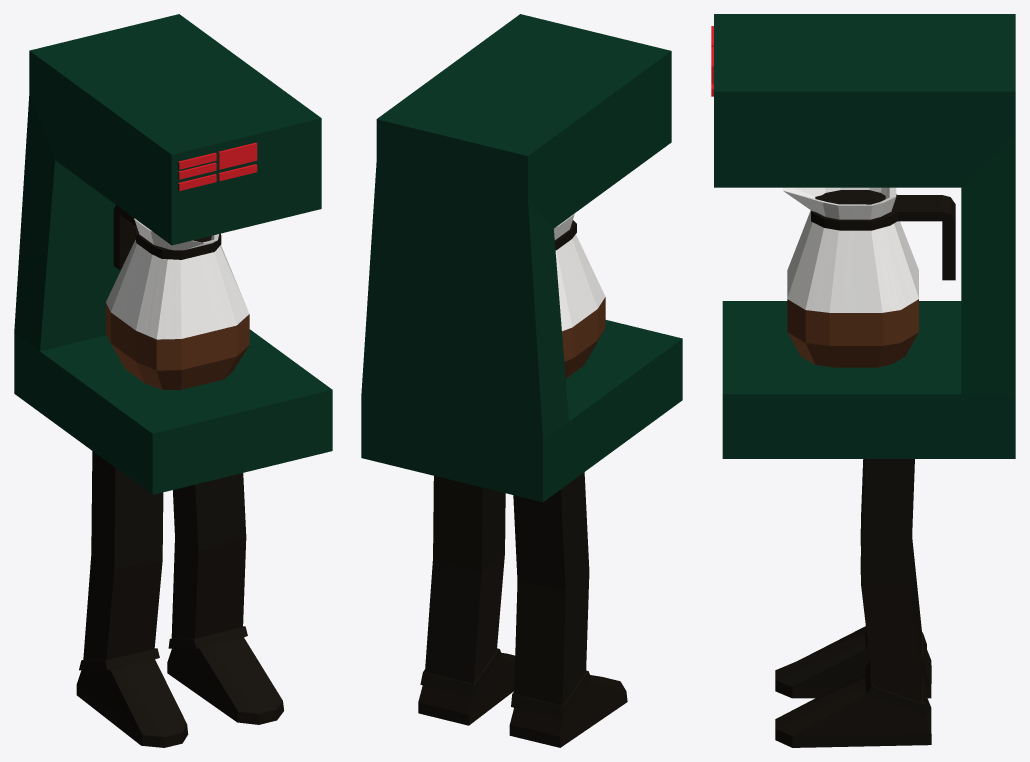
File: CoffeeMachineMan.fbx
The picture shows the model from 3 angles, left to right: view 1: azimuth 30°, elevation 25°; view 2: azimuth 150°, elevation 25°; view 3: azimuth 270°, elevation 25°; orthographic projection. The views are drawn at different scales.
Parts seen in each view (by area): view 1: Cube.003, Cube, Cube.005, Cube.001; view 2: Cube.003, Cube, Cube.001, Cube.005; view 3: Cube.003, Cube.005, Cube.001, Cube.
Part boxes in pixels (x1,y1,x2,y2): Cube.003: (14, 14, 332, 494); Cube: (76, 451, 188, 747); Cube.005: (105, 205, 249, 389); Cube.001: (167, 473, 283, 724); Cube.003: (361, 14, 682, 502); Cube: (509, 472, 627, 747); Cube.001: (418, 476, 515, 725); Cube.005: (554, 213, 605, 378); Cube.003: (711, 14, 1015, 458); Cube.005: (782, 187, 955, 367); Cube.001: (775, 459, 931, 747); Cube: (775, 459, 931, 698).
Bounding box in the file's own units: 375 × 1234 × 519.
